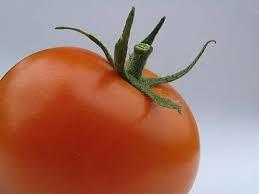Mengkal: (3, 31, 202, 193)
